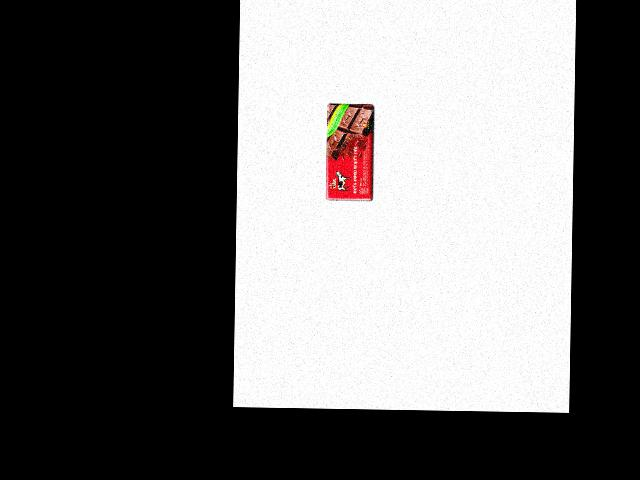chocolate: (324, 103, 378, 204)
